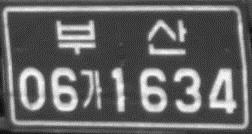0: (18, 65, 46, 113)
1: (110, 63, 129, 113)
3: (171, 64, 203, 115)
4: (204, 64, 238, 118)
6: (137, 65, 170, 113), (49, 63, 79, 112)
가: (79, 65, 105, 112)
부산_D: (52, 15, 188, 58)
